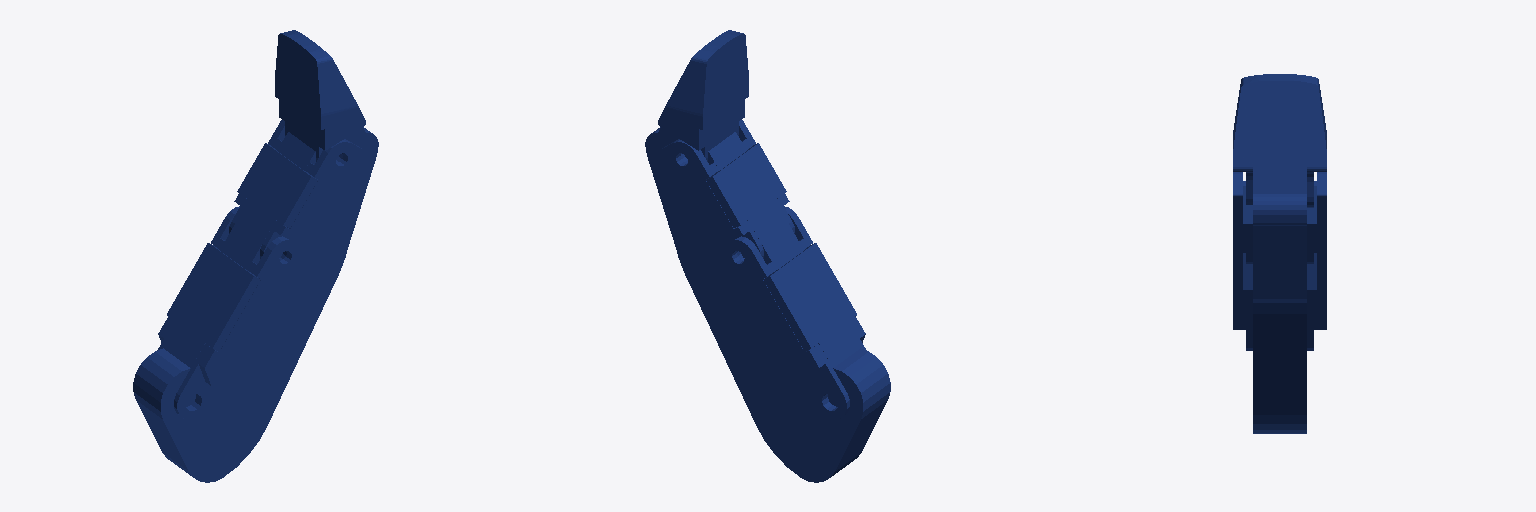
Rendered from armL bfinger.004.obj.
3 views of the same model, side by side, from view 1: azimuth 30°, elevation 25°; view 2: azimuth 150°, elevation 25°; view 3: azimuth 270°, elevation 25° (orthographic).
Visible parts, largest first — view 1: visual_0_armR_bfinger_armL_bfinger.004; view 2: visual_0_armR_bfinger_armL_bfinger.004; view 3: visual_0_armR_bfinger_armL_bfinger.004.
Part boxes in pixels (left/top/right/bottom): visual_0_armR_bfinger_armL_bfinger.004: left=133, top=30, right=378, bottom=482; visual_0_armR_bfinger_armL_bfinger.004: left=645, top=30, right=890, bottom=482; visual_0_armR_bfinger_armL_bfinger.004: left=1233, top=74, right=1326, bottom=433.
Size of the model in its own units: 0.0624 by 0.1107 by 0.0231.